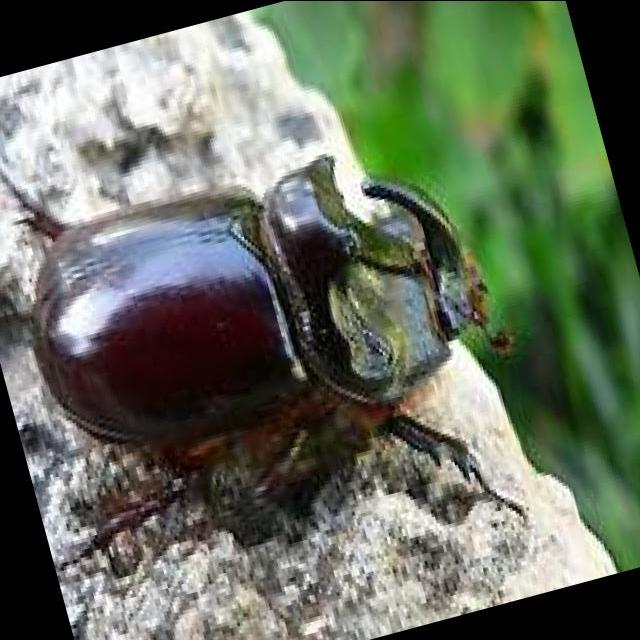Rhino-beetle: (12, 162, 542, 516)
